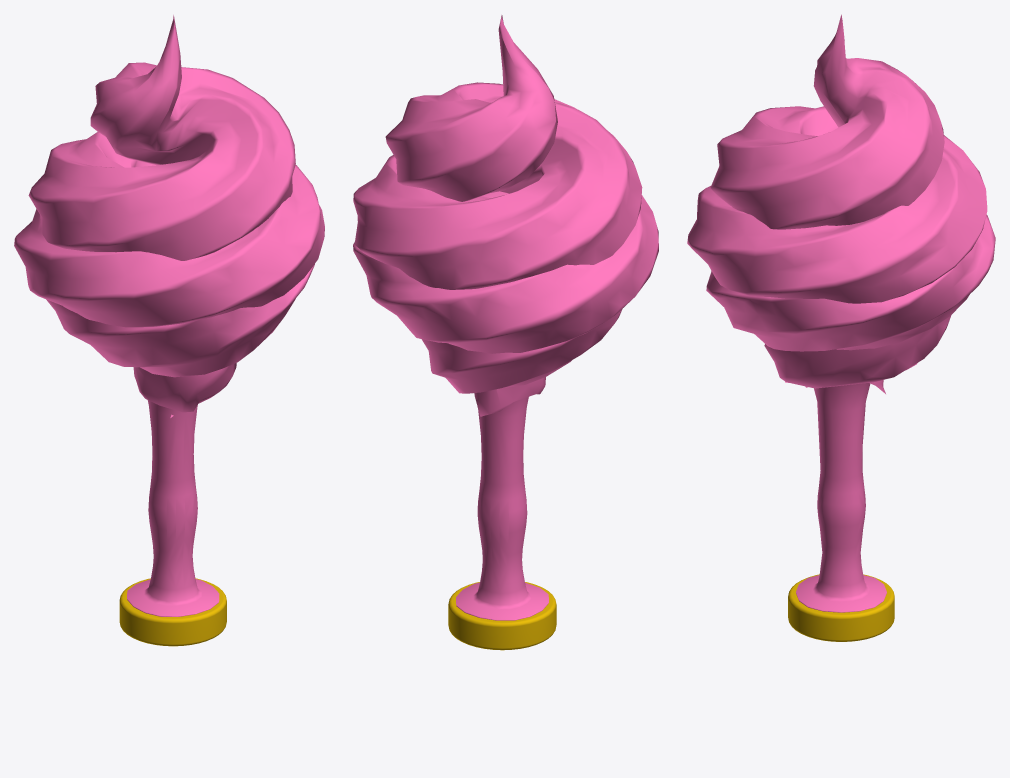
File: icecream_plunger.fbx
3 renders of one model, left to right at view 1: azimuth 30°, elevation 25°; view 2: azimuth 150°, elevation 25°; view 3: azimuth 270°, elevation 25°, orthographic.
Visible parts, largest first — view 1: IceCream_plunger; view 2: IceCream_plunger; view 3: IceCream_plunger.
Boxes of the visible parts, x1=… form: IceCream_plunger: x1=14, y1=15, x2=324, y2=646; IceCream_plunger: x1=353, y1=15, x2=658, y2=650; IceCream_plunger: x1=687, y1=14, x2=995, y2=641.
Size of the model in its own units: 0.3964 by 1.07 by 0.4009.
